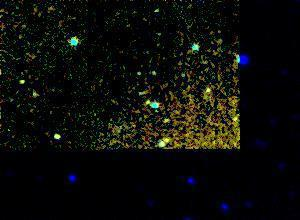star: (42, 119, 72, 149)
